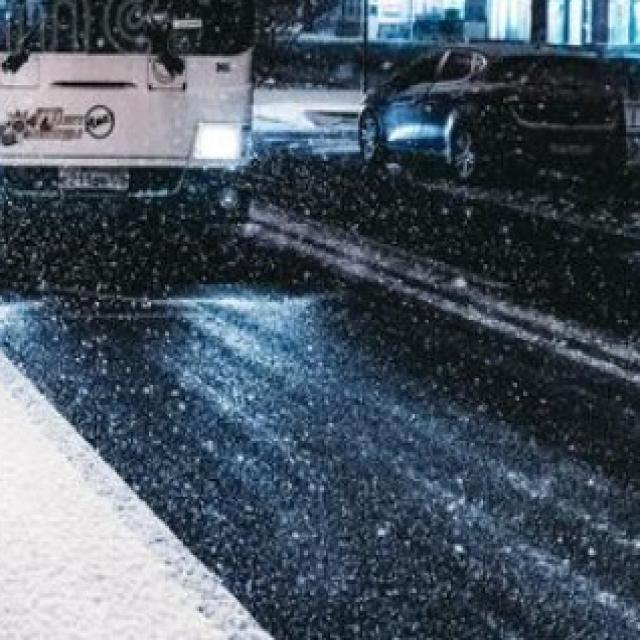bus: (0, 0, 261, 239)
car: (354, 37, 633, 186)
